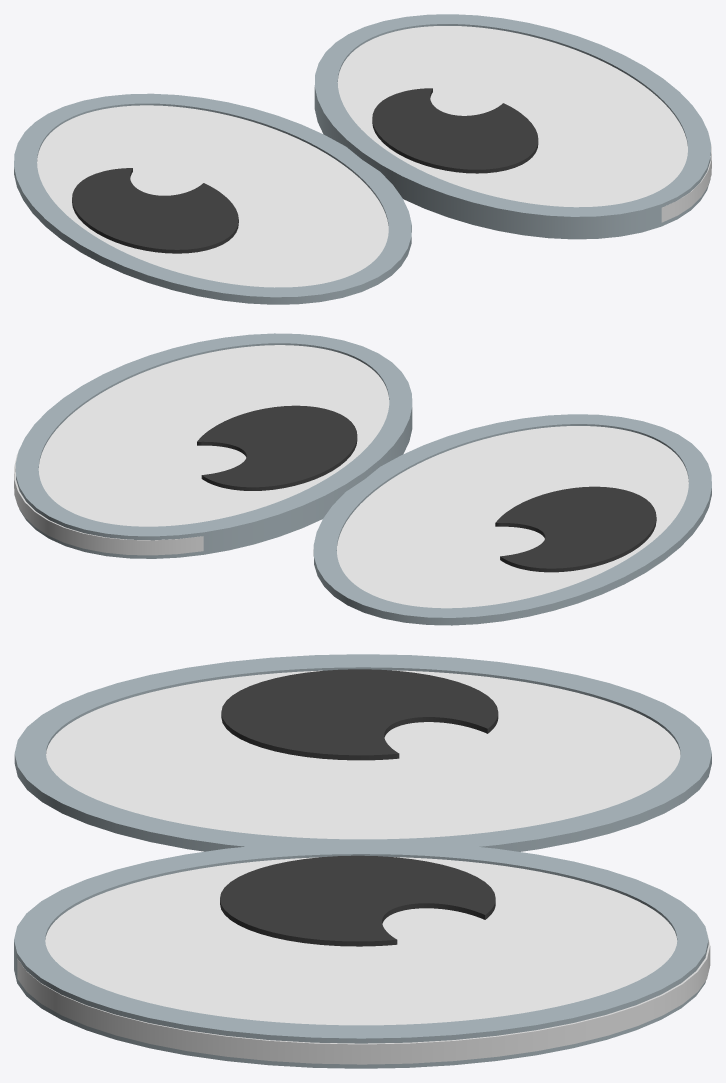
The model's file is emoji_u1f440.glb.
3 renders of one model, top to bottom at view 1: azimuth 30°, elevation 25°; view 2: azimuth 150°, elevation 25°; view 3: azimuth 270°, elevation 25°, orthographic. The views are drawn at different scales.
Parts seen in each view (by area): view 1: emoji_u1f440; view 2: emoji_u1f440; view 3: emoji_u1f440.
Part boxes in pixels (bbox=[...]): emoji_u1f440: bbox=[14, 14, 711, 304]; emoji_u1f440: bbox=[14, 333, 711, 625]; emoji_u1f440: bbox=[14, 654, 711, 1068].
Bounding box in the file's own units: 0.0337 × 0.0014 × 0.0251.
